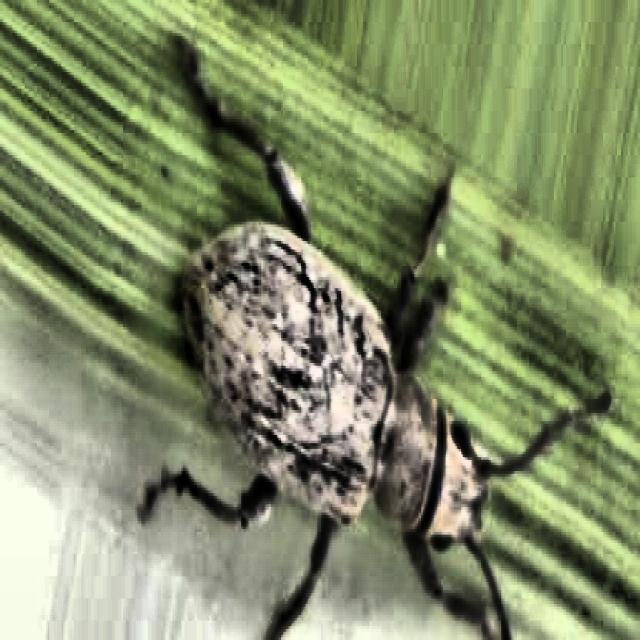Stink bug: (123, 50, 540, 640)
